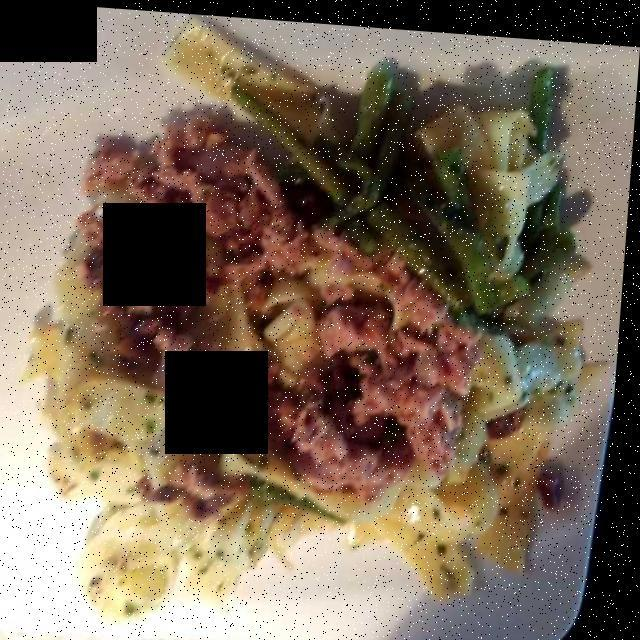beans: (232, 52, 579, 348)
pasta: (43, 16, 570, 609)
tuna: (86, 106, 485, 533)
